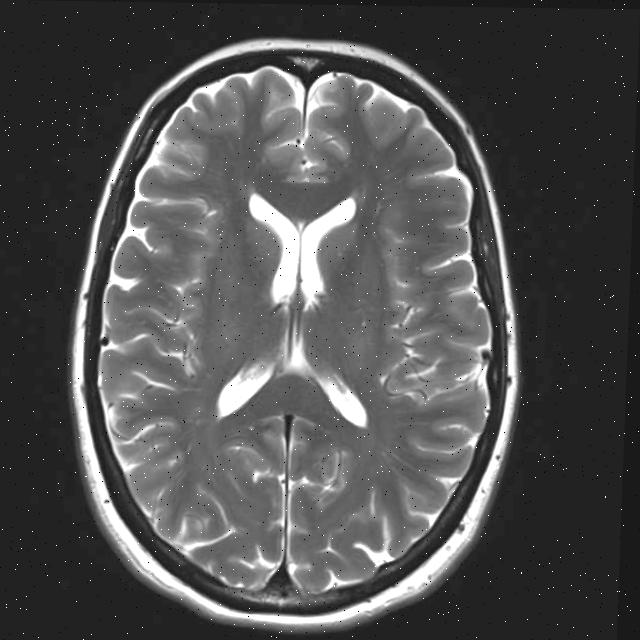NoTumor: (50, 34, 536, 640)
